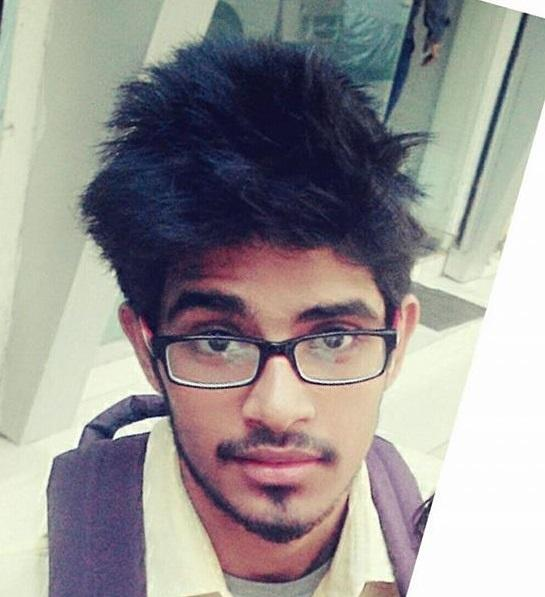No Mask: (102, 200, 435, 565)
